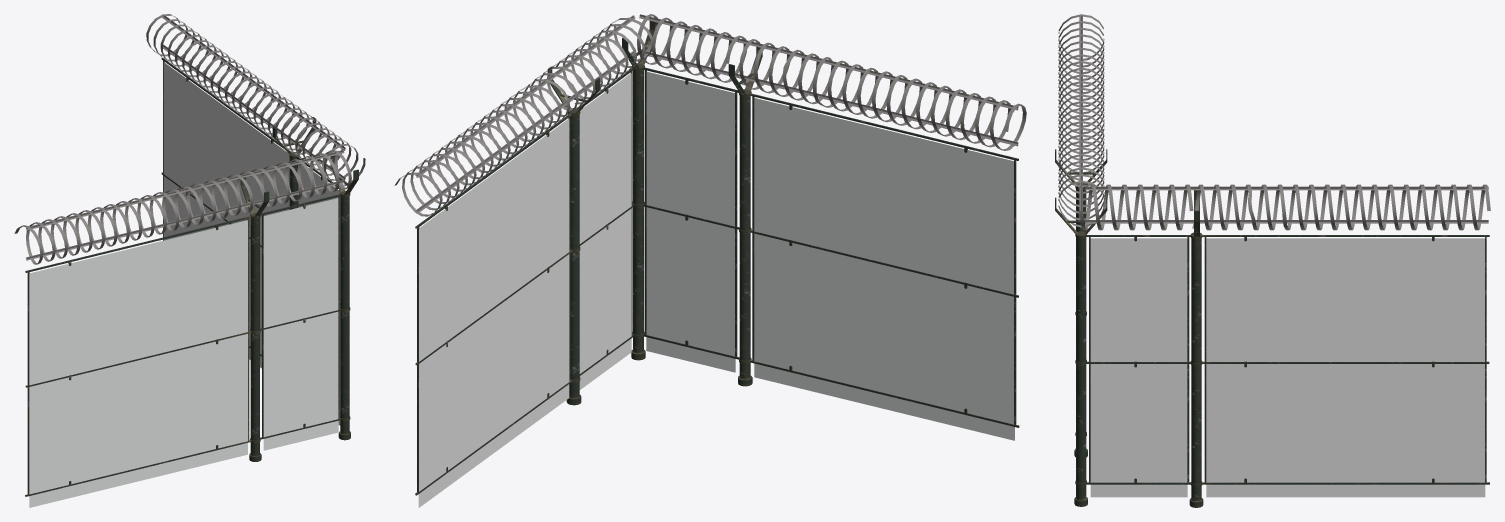
Rendered from SM_Fence_Exterior_Corner_Outer.fbx.
3 renders of one model, left to right at view 1: azimuth 30°, elevation 25°; view 2: azimuth 150°, elevation 25°; view 3: azimuth 270°, elevation 25°, orthographic. The views are drawn at different scales.
Visible parts, largest first — view 1: SM_Fence_Exterior_Corner_Outer_LOD0; view 2: SM_Fence_Exterior_Corner_Outer_LOD0; view 3: SM_Fence_Exterior_Corner_Outer_LOD0.
Boxes of the visible parts, x1,y1,x2,y2 form: SM_Fence_Exterior_Corner_Outer_LOD0: (14,14,365,507); SM_Fence_Exterior_Corner_Outer_LOD0: (394,14,1026,507); SM_Fence_Exterior_Corner_Outer_LOD0: (1055,14,1490,507).
Bounding box in the file's own units: 513 × 511 × 412.
Materials: 1 (1 with a texture image).
